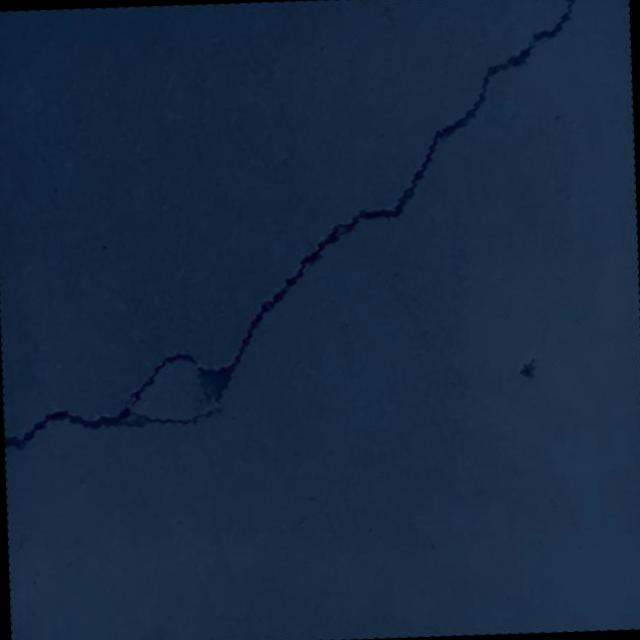crack: (0, 0, 598, 451)
